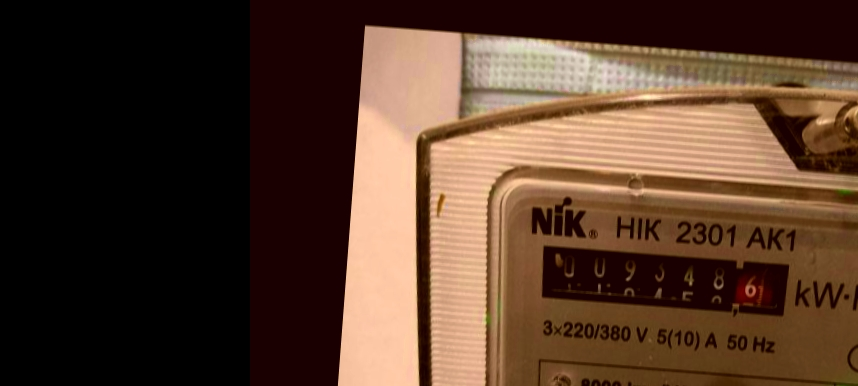0: (560, 253, 578, 280), (591, 252, 607, 279)
3: (652, 257, 668, 283)
4: (679, 258, 699, 289)
6: (741, 270, 760, 300)
8: (711, 263, 728, 292)
9: (622, 257, 638, 285)
screen: (521, 230, 804, 329)
